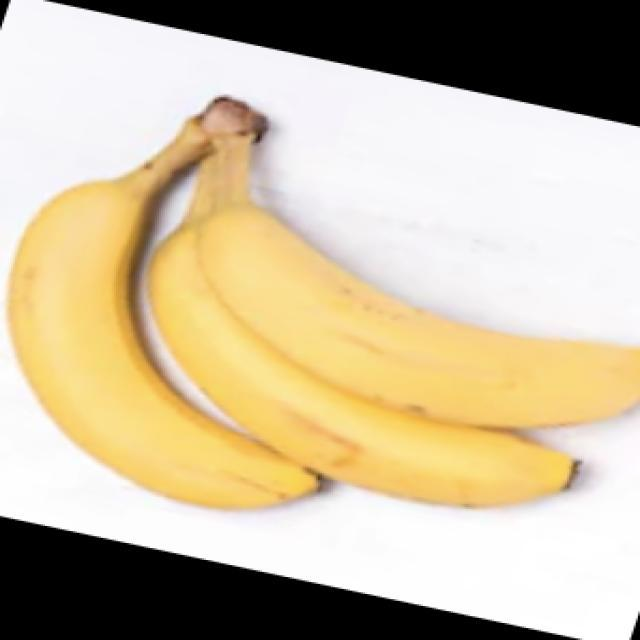Banana: (6, 94, 639, 511)
